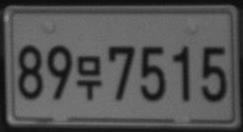1: (170, 45, 196, 102)
5: (201, 45, 228, 102), (139, 45, 166, 101)
7: (108, 45, 135, 100)
8: (17, 44, 43, 100)
9: (47, 44, 72, 99)
무: (77, 54, 102, 100)
